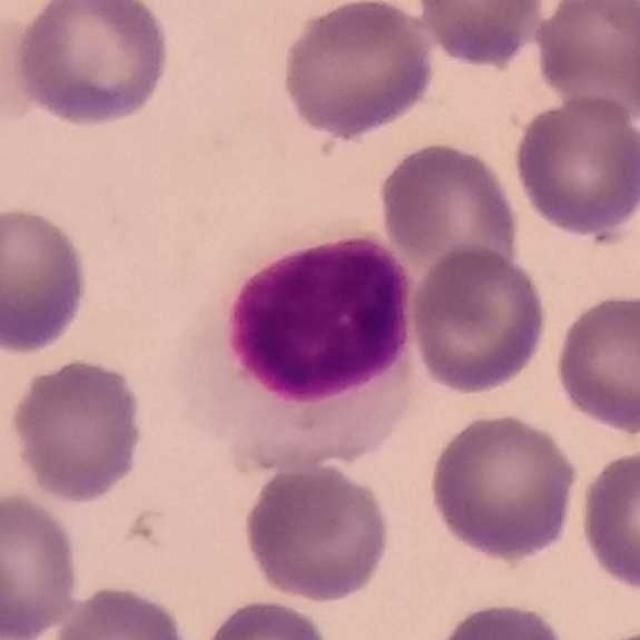Lymphocyte: (150, 220, 427, 466)
RBC: (424, 408, 582, 564), (238, 458, 395, 606), (405, 240, 551, 398), (276, 0, 439, 141), (6, 353, 150, 505), (8, 0, 176, 130), (375, 136, 523, 277), (508, 90, 640, 242), (0, 201, 93, 357), (551, 287, 640, 438), (531, 0, 640, 121), (0, 488, 83, 640), (411, 0, 551, 71), (575, 443, 640, 595), (49, 581, 194, 640), (0, 2, 56, 132), (429, 596, 573, 640), (198, 595, 337, 640), (571, 621, 640, 640)
